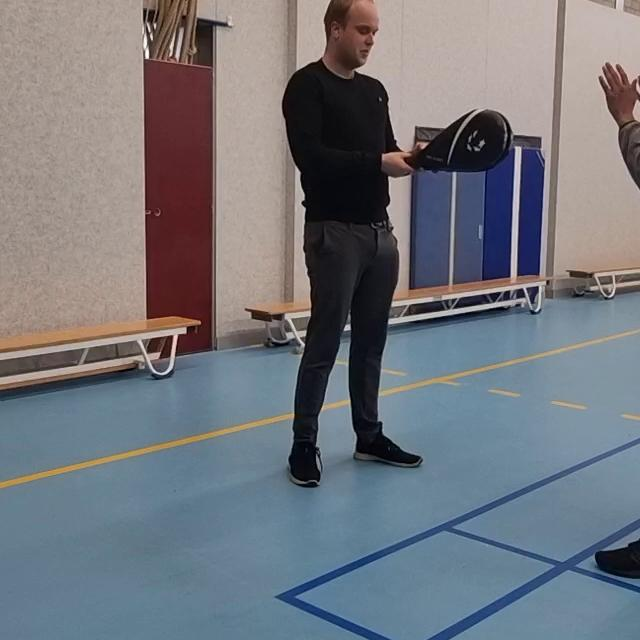paddle: (400, 108, 518, 172)
